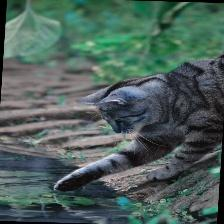kedo: (55, 52, 224, 191)
